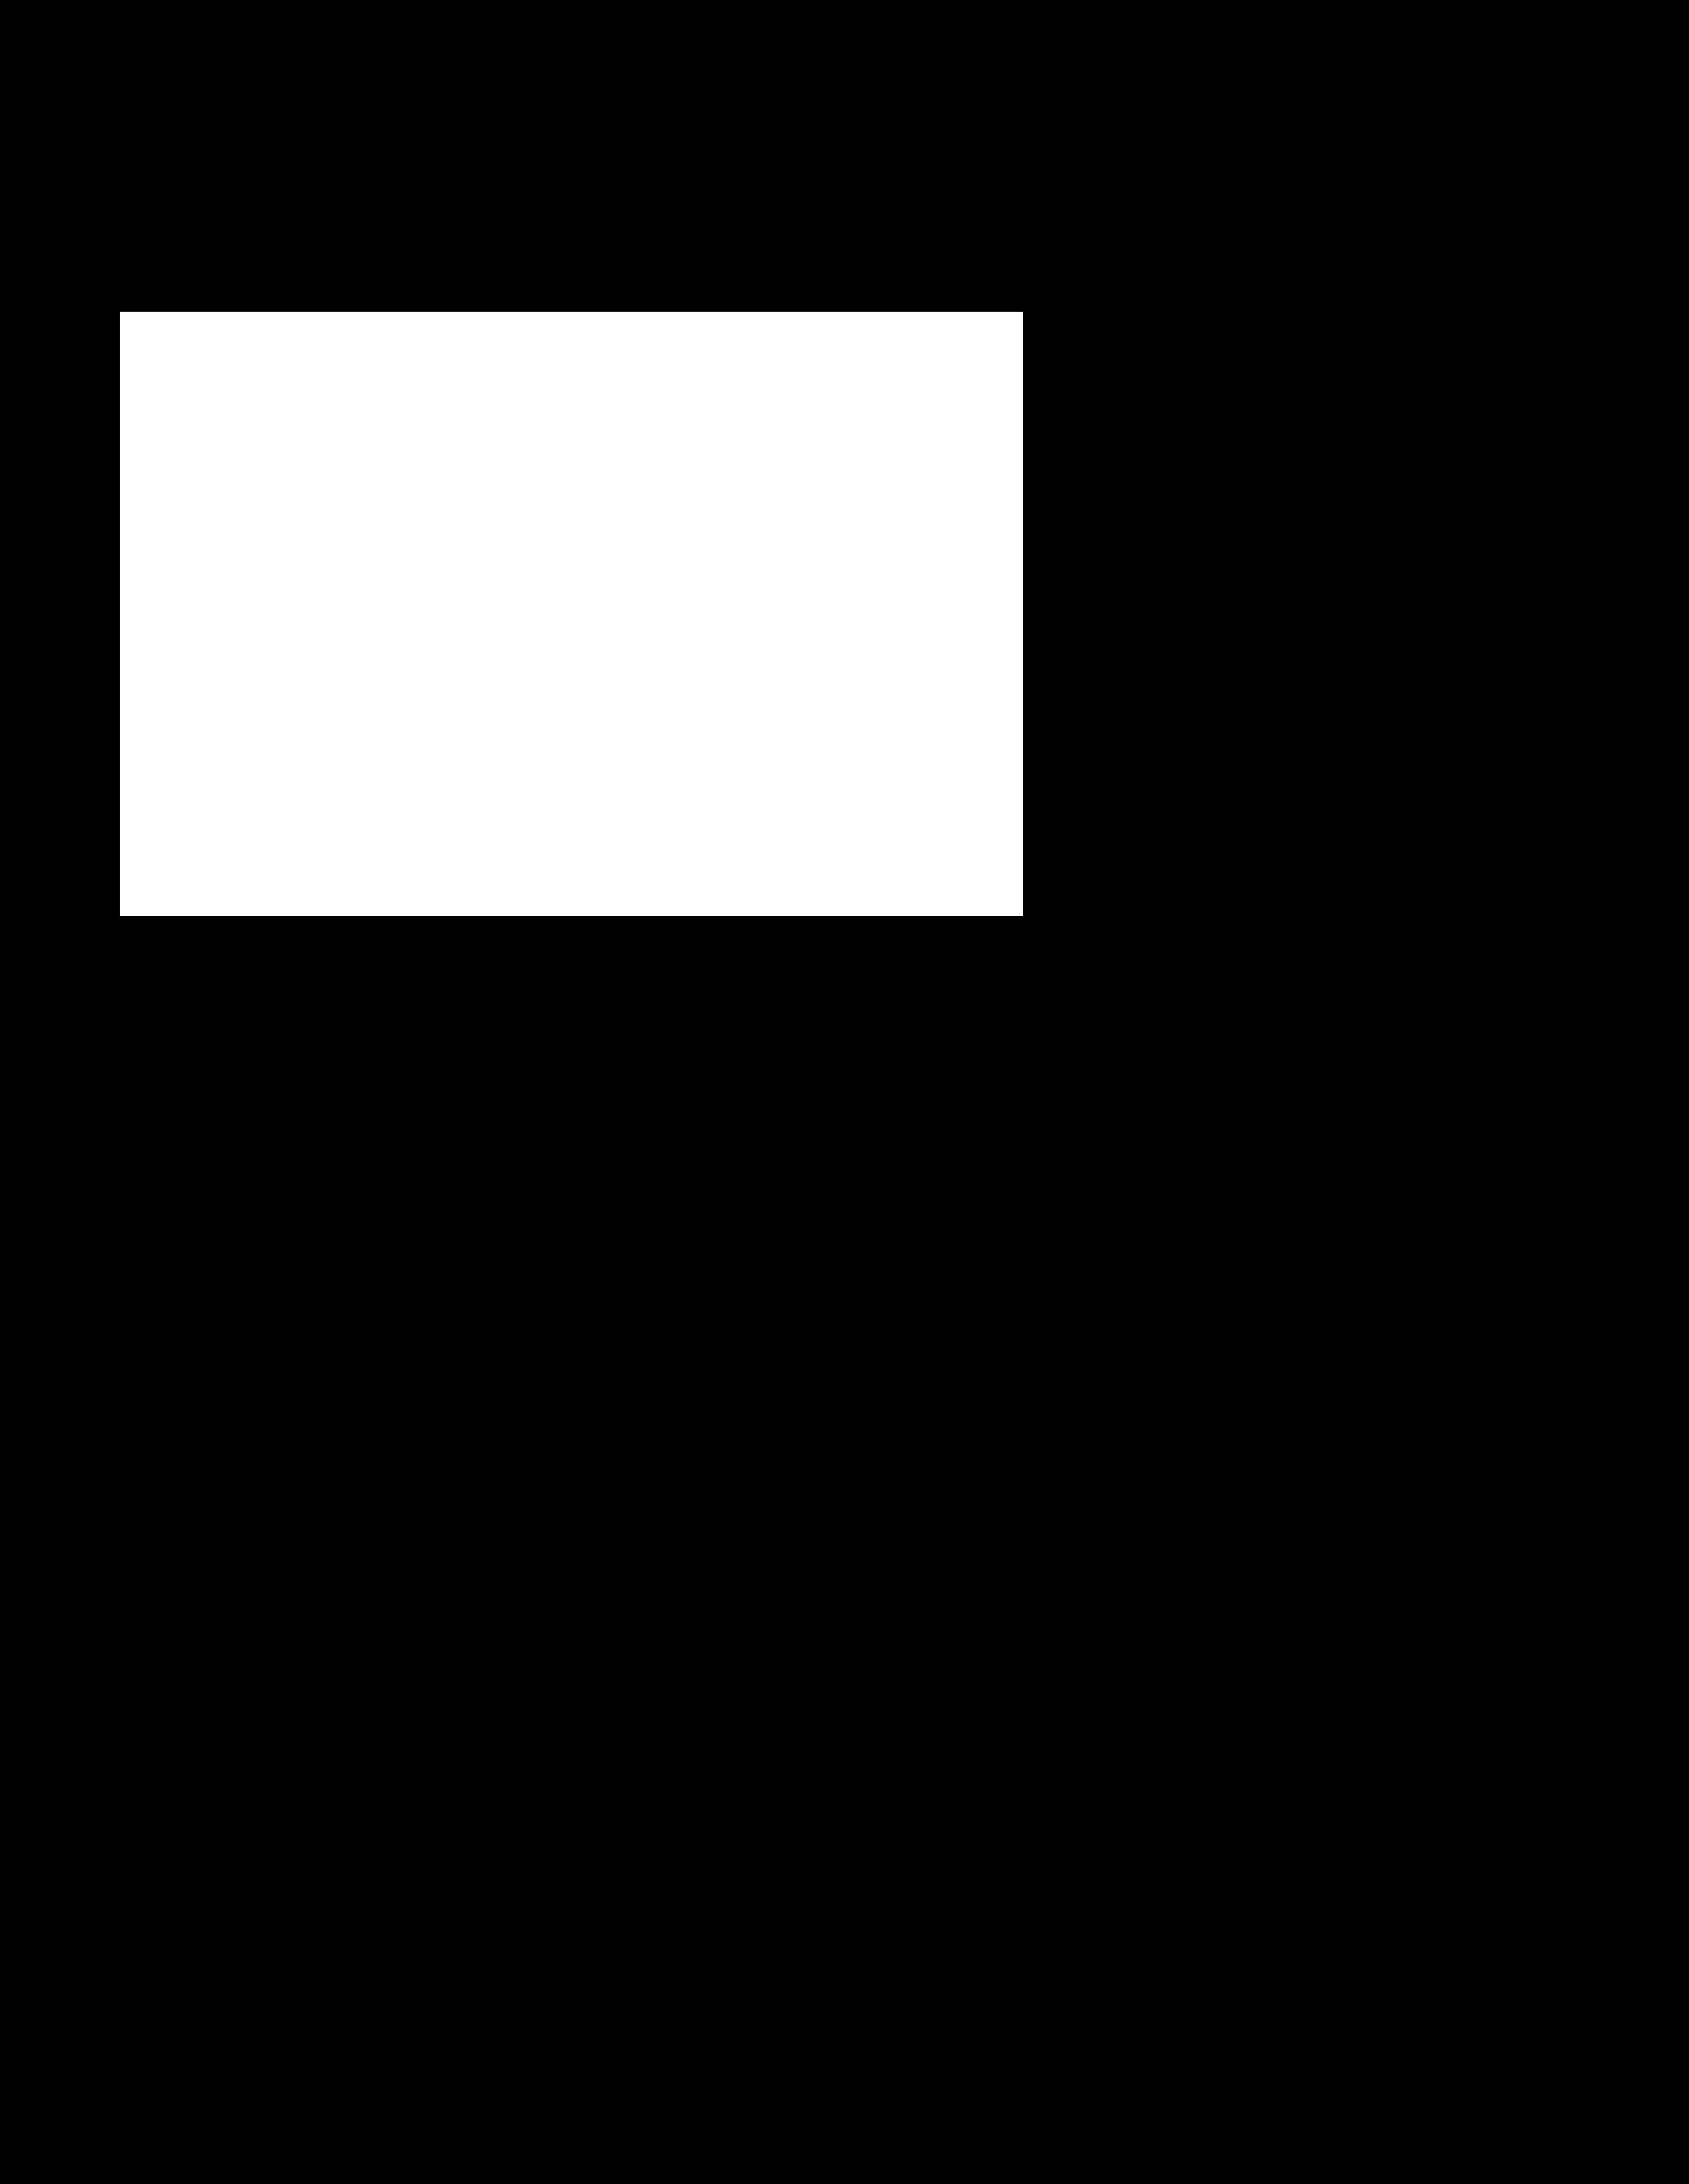table: (121, 312, 1023, 915)
